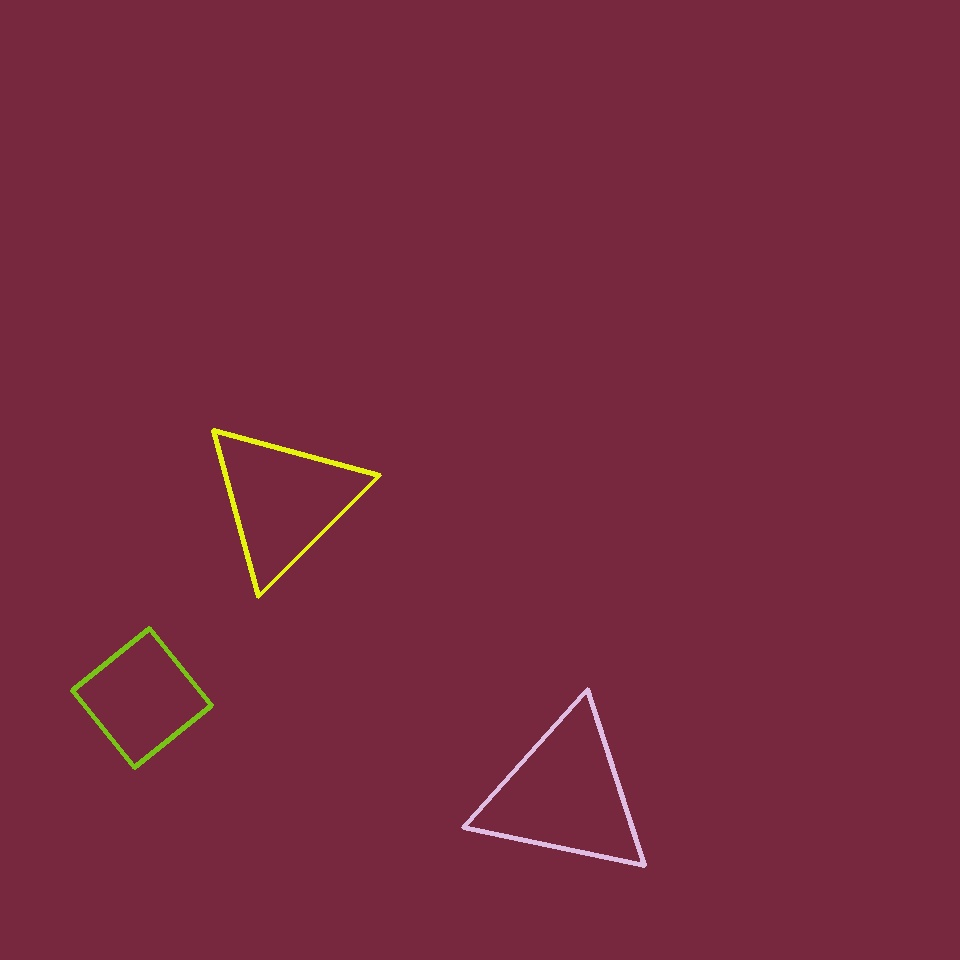circle: (474, 706, 655, 882), (201, 418, 367, 584)
square: (72, 628, 212, 768)
